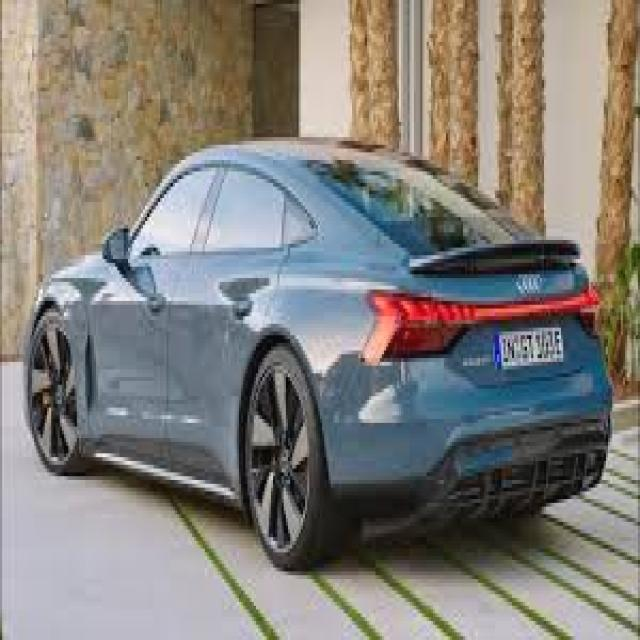SUV: (21, 126, 608, 568)
